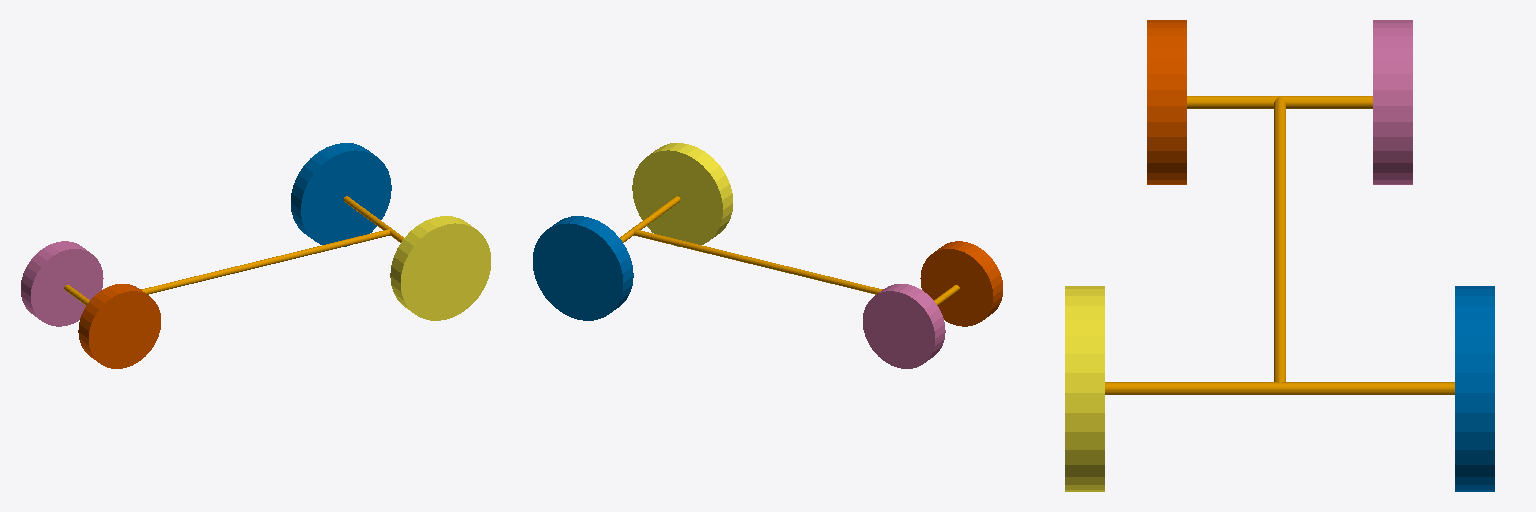
The robot description file, URDF, robot "hivebot":
<?xml version="1.0" ?>
<!-- =================================================================================== -->
<!-- |    This document was autogenerated by xacro from urdf/freehicle/freehicle.xacro | -->
<!-- |    EDITING THIS FILE BY HAND IS NOT RECOMMENDED                                 | -->
<!-- =================================================================================== -->
<robot name="hivebot">
  <link name="body">
    <inertial>
      <mass value="30"/>
      <origin rpy="0 0 0" xyz="0 0 0.1016"/>
      <inertia ixx="1" ixy="0.0" ixz="0.0" iyy="1" iyz="0.0" izz="1"/>
    </inertial>
    <collision name="center_tube">
      <origin rpy="0 1.5707963 0" xyz="0 0 0"/>
      <geometry>
        <cylinder length="0.8382" radius="0.008"/>
      </geometry>
    </collision>
    <visual name="center_tube">
      <origin rpy="0 1.5707963 0" xyz="0 0 0"/>
      <geometry>
        <cylinder length="0.8382" radius="0.008"/>
      </geometry>
    </visual>
    <collision name="back_tube">
      <origin rpy="1.5707963 0 0" xyz="0.4191 0 0"/>
      <geometry>
        <cylinder length="0.4826" radius="0.008"/>
      </geometry>
    </collision>
    <visual name="back_tube">
      <origin rpy="1.5707963 0 0" xyz="0.4191 0 0"/>
      <geometry>
        <cylinder length="0.4826" radius="0.008"/>
      </geometry>
    </visual>
    <collision name="back_tube">
      <origin rpy="1.5707963 0 0" xyz="-0.4191 0 0"/>
      <geometry>
        <cylinder length="0.28" radius="0.008"/>
      </geometry>
    </collision>
    <visual name="back_tube">
      <origin rpy="1.5707963 0 0" xyz="-0.4191 0 0"/>
      <geometry>
        <cylinder length="0.28" radius="0.008"/>
      </geometry>
    </visual>
  </link>
  <link name="front_left_link">
    <inertial>
      <mass value="0.01"/>
      <origin rpy="0 0 0" xyz="0 0 0"/>
      <inertia ixx="1e-9" ixy="0.0" ixz="0.0" iyy="1e-9" iyz="0.0" izz="1e-9"/>
    </inertial>
  </link>
  <joint name="front_left_link" type="revolute">
    <parent link="body"/>
    <child link="front_left_link"/>
    <origin rpy="0 0 0" xyz="0.4191 -0.2413 0"/>
    <axis xyz="0 0 1"/>
    <limit effort="0" lower="-0.392699075" upper="0.392699075" velocity="0"/>
  </joint>
  <link name="front_right_link">
    <inertial>
      <mass value="0.01"/>
      <origin rpy="0 0 0" xyz="0 0 0"/>
      <inertia ixx="1e-9" ixy="0.0" ixz="0.0" iyy="1e-9" iyz="0.0" izz="1e-9"/>
    </inertial>
  </link>
  <joint name="front_right_link" type="revolute">
    <parent link="body"/>
    <child link="front_right_link"/>
    <origin rpy="0 0 0" xyz="0.4191 0.2413 0"/>
    <axis xyz="0 0 1"/>
    <limit effort="0" lower="-0.392699075" upper="0.392699075" velocity="0"/>
  </joint>
  <link name="wheel_front_left">
    <inertial>
      <mass value="1"/>
      <origin rpy="0 0 0" xyz="0 0 0"/>
      <inertia ixx="0.05" ixy="0" ixz="0" iyy="0.05" iyz="0" izz="0.05"/>
    </inertial>
    <collision name="collision">
      <origin rpy="0 0 0" xyz="0 0 0"/>
      <geometry>
        <cylinder length="0.05" radius="0.127"/>
      </geometry>
    </collision>
    <visual name="visual">
      <origin rpy="1.5707963 0 0" xyz="0  0  0"/>
      <geometry>
        <cylinder length="0.05" radius="0.127"/>
      </geometry>
    </visual>
  </link>
  <joint name="wheel_front_left" type="continuous">
    <parent link="front_left_link"/>
    <child link="wheel_front_left"/>
    <origin rpy="0 0 0" xyz="0 0 0"/>
    <axis xyz="0 1 0"/>
  </joint>
  <link name="wheel_front_right">
    <inertial>
      <mass value="1"/>
      <origin rpy="0 0 0" xyz="0 0 0"/>
      <inertia ixx="0.05" ixy="0" ixz="0" iyy="0.05" iyz="0" izz="0.05"/>
    </inertial>
    <collision name="collision">
      <origin rpy="0 0 0" xyz="0 0 0"/>
      <geometry>
        <cylinder length="0.05" radius="0.127"/>
      </geometry>
    </collision>
    <visual name="visual">
      <origin rpy="1.5707963 0 0" xyz="0  0  0"/>
      <geometry>
        <cylinder length="0.05" radius="0.127"/>
      </geometry>
    </visual>
  </link>
  <joint name="wheel_front_right" type="continuous">
    <parent link="front_right_link"/>
    <child link="wheel_front_right"/>
    <origin rpy="0 0 0" xyz="0 0 0"/>
    <axis xyz="0 1 0"/>
  </joint>
  <link name="wheel_back_left">
    <inertial>
      <mass value="1"/>
      <origin rpy="0 0 0" xyz="0 0 0"/>
      <inertia ixx="0.05" ixy="0" ixz="0" iyy="0.05" iyz="0" izz="0.05"/>
    </inertial>
    <collision name="collision">
      <origin rpy="0 0 0" xyz="0 0 0"/>
      <geometry>
        <cylinder length="0.05" radius="0.1016"/>
      </geometry>
    </collision>
    <visual name="visual">
      <origin rpy="1.5707963 0 0" xyz="0  0  0"/>
      <geometry>
        <cylinder length="0.05" radius="0.1016"/>
      </geometry>
    </visual>
  </link>
  <joint name="wheel_back_left" type="continuous">
    <parent link="body"/>
    <child link="wheel_back_left"/>
    <origin rpy="0 0 0" xyz="-0.4191 -0.14 0"/>
    <axis xyz="0 1 0"/>
  </joint>
  <link name="wheel_back_right">
    <inertial>
      <mass value="1"/>
      <origin rpy="0 0 0" xyz="0 0 0"/>
      <inertia ixx="0.05" ixy="0" ixz="0" iyy="0.05" iyz="0" izz="0.05"/>
    </inertial>
    <collision name="collision">
      <origin rpy="0 0 0" xyz="0 0 0"/>
      <geometry>
        <cylinder length="0.05" radius="0.1016"/>
      </geometry>
    </collision>
    <visual name="visual">
      <origin rpy="1.5707963 0 0" xyz="0  0  0"/>
      <geometry>
        <cylinder length="0.05" radius="0.1016"/>
      </geometry>
    </visual>
  </link>
  <joint name="wheel_back_right" type="continuous">
    <parent link="body"/>
    <child link="wheel_back_right"/>
    <origin rpy="0 0 0" xyz="-0.4191 0.14 0"/>
    <axis xyz="0 1 0"/>
  </joint>
</robot>

--- What the picture shows (computed from the rendered views, not written in the file) ---
Views: 3 orthographic renders of the robot side by side, from view 1: azimuth 30°, elevation 25°; view 2: azimuth 150°, elevation 25°; view 3: azimuth 270°, elevation 25°.
Model hivebot with 7 links and 6 joints (2 revolute, 4 continuous), rooted at body, posed every joint at zero.
Visible links, largest first — view 1: wheel_front_left, wheel_front_right, wheel_back_left, wheel_back_right, body; view 2: wheel_front_right, wheel_front_left, wheel_back_right, wheel_back_left, body; view 3: body, wheel_front_left, wheel_front_right, wheel_back_left, wheel_back_right.
Boxes of the visible links, x1,y1,x2,y2 form: wheel_front_left: (390,216,490,320); wheel_front_right: (291,143,391,246); wheel_back_left: (78,284,160,368); wheel_back_right: (21,241,103,326); body: (64,196,403,305); wheel_front_right: (533,216,633,320); wheel_front_left: (632,143,732,246); wheel_back_right: (863,284,945,368); wheel_back_left: (920,241,1002,326); body: (620,196,959,305); body: (1105,96,1454,394); wheel_front_left: (1065,286,1104,491); wheel_front_right: (1455,286,1494,491); wheel_back_left: (1147,20,1186,184); wheel_back_right: (1373,20,1412,184).
Bounding box of the posed robot: 1.07 × 0.5326 × 0.254 m (x, y, z).
Geometry: primitives only (box / cylinder / sphere), no mesh files.